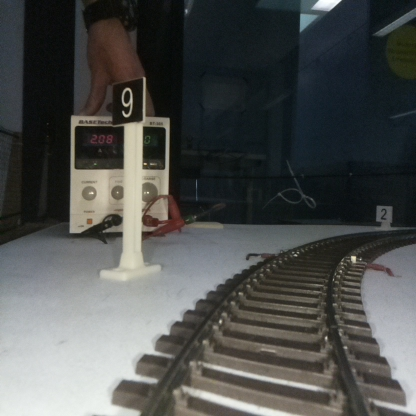black-info-9: (112, 78, 143, 275)
white-stop-2: (376, 205, 392, 229)
